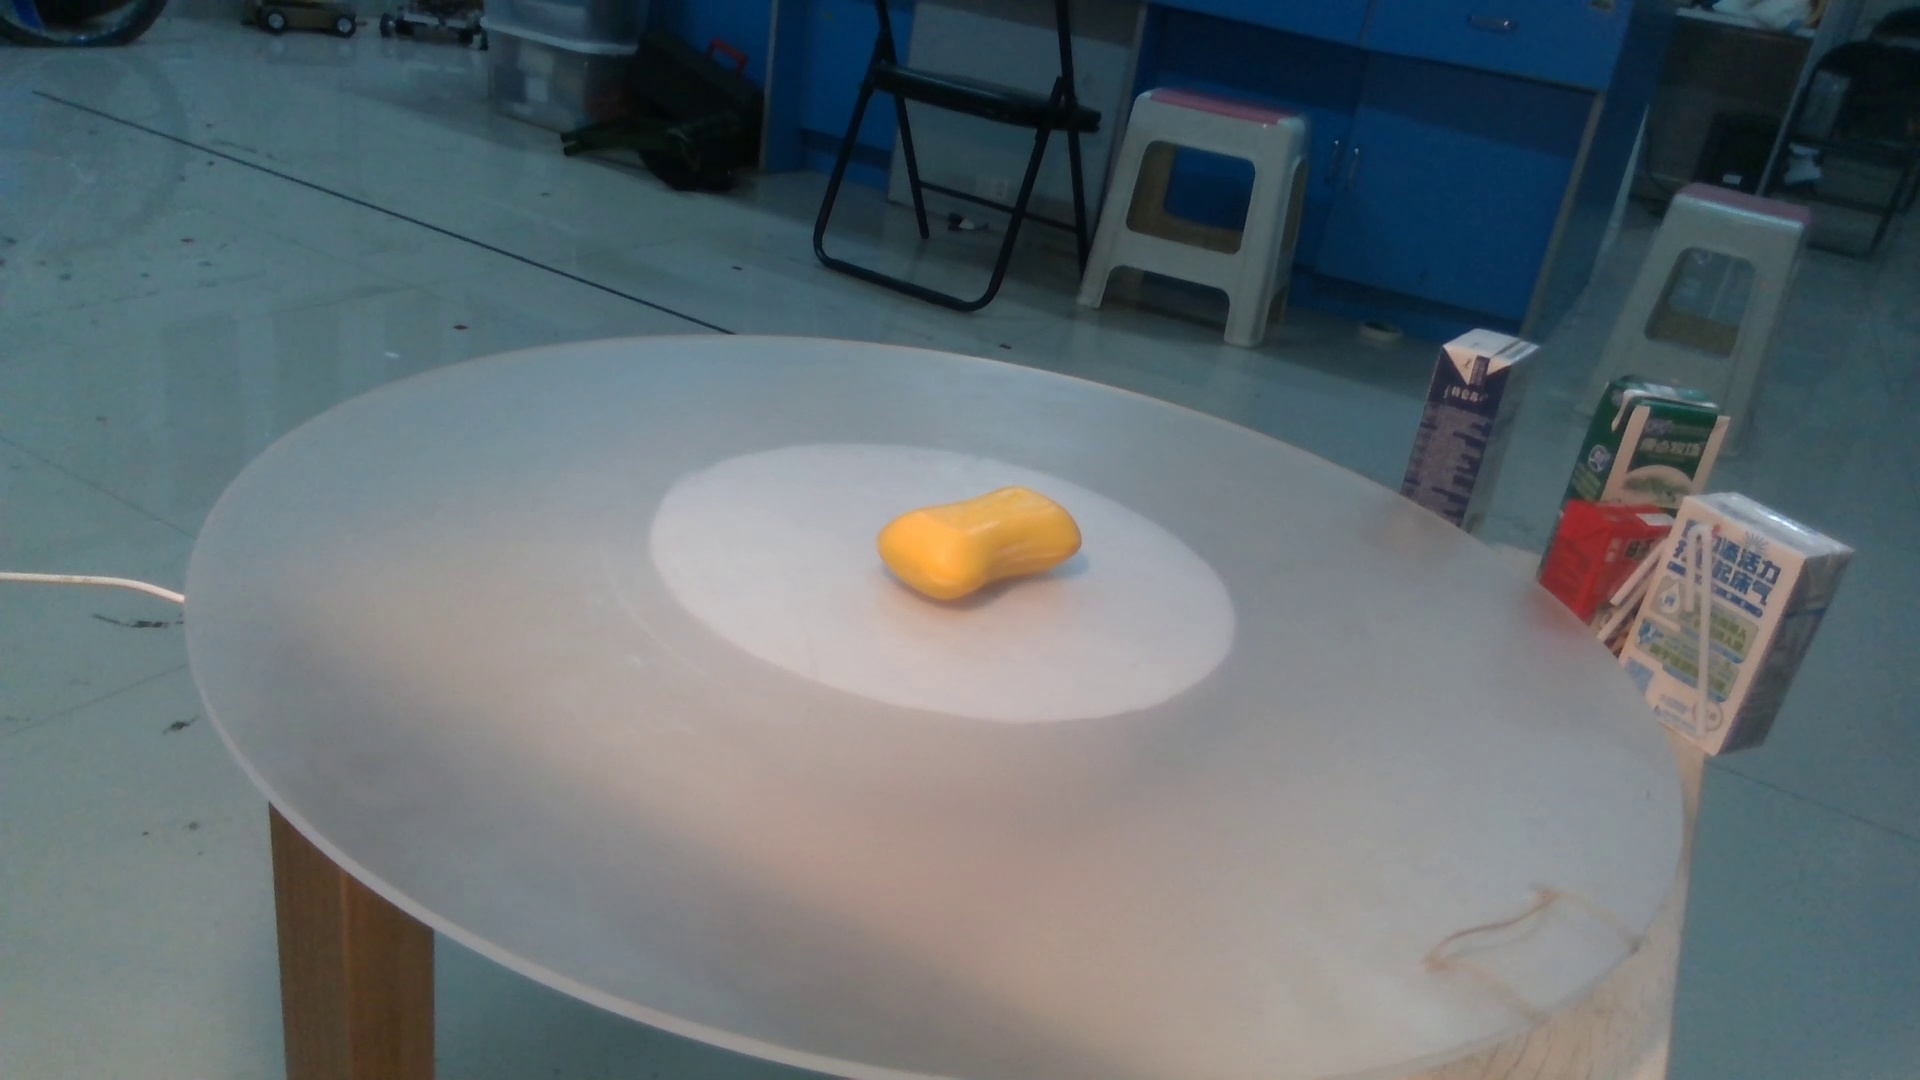CA003_1: (857, 458, 1116, 629)
